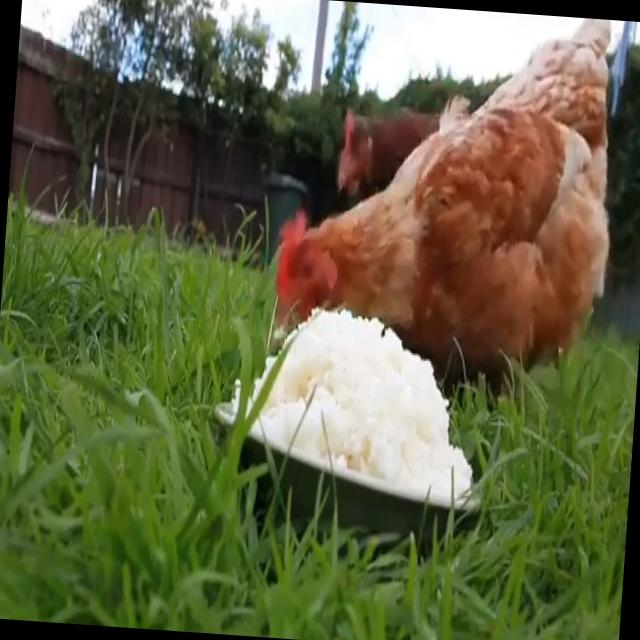feeding: (255, 0, 627, 416)
